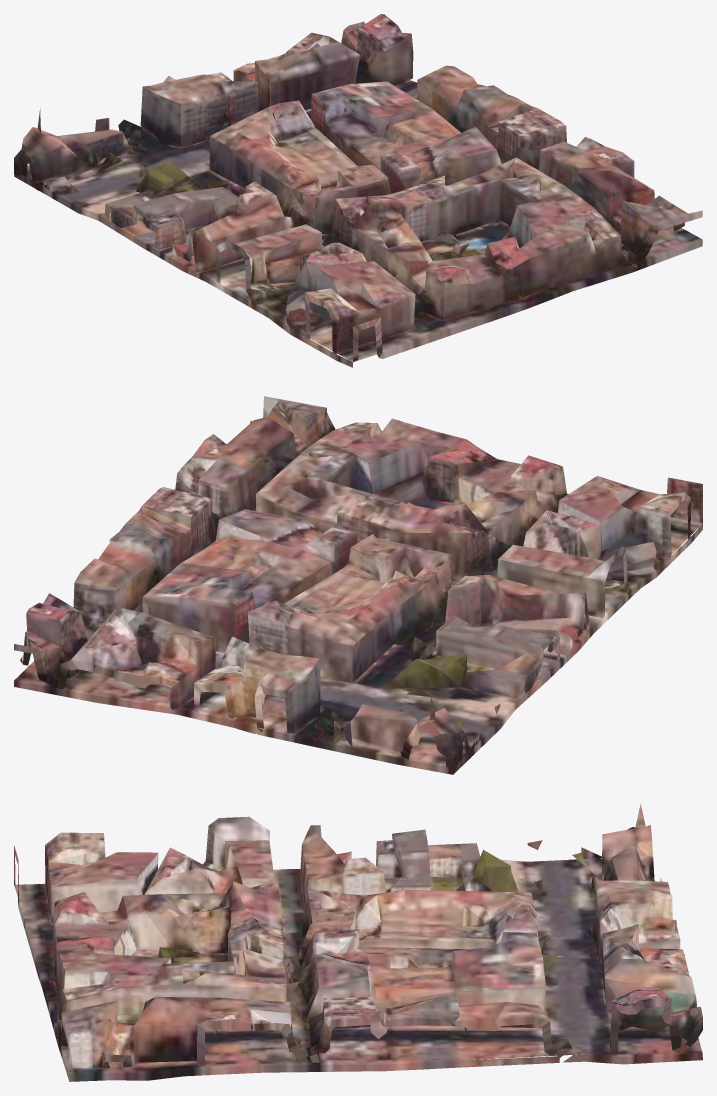
The picture shows the model from 3 angles, top to bottom: view 1: azimuth 30°, elevation 25°; view 2: azimuth 150°, elevation 25°; view 3: azimuth 270°, elevation 25°; orthographic projection. The views are drawn at different scales.
Visible parts, largest first — view 1: Mesh_0; view 2: Mesh_0; view 3: Mesh_0.
Boxes of the visible parts, x1,y1,x2,y2 form: Mesh_0: (14,14,702,367); Mesh_0: (14,396,702,774); Mesh_0: (14,803,702,1081).
Bounding box in the file's own units: 266 × 40.97 × 330.
2 materials, 2 textured.
